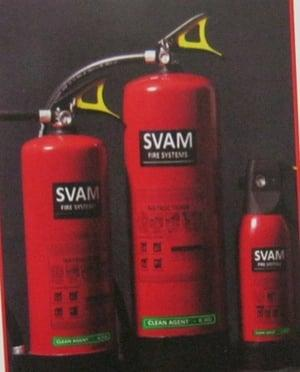Fire Extinguisher: (123, 2, 227, 367), (14, 70, 116, 372), (234, 149, 300, 372)
